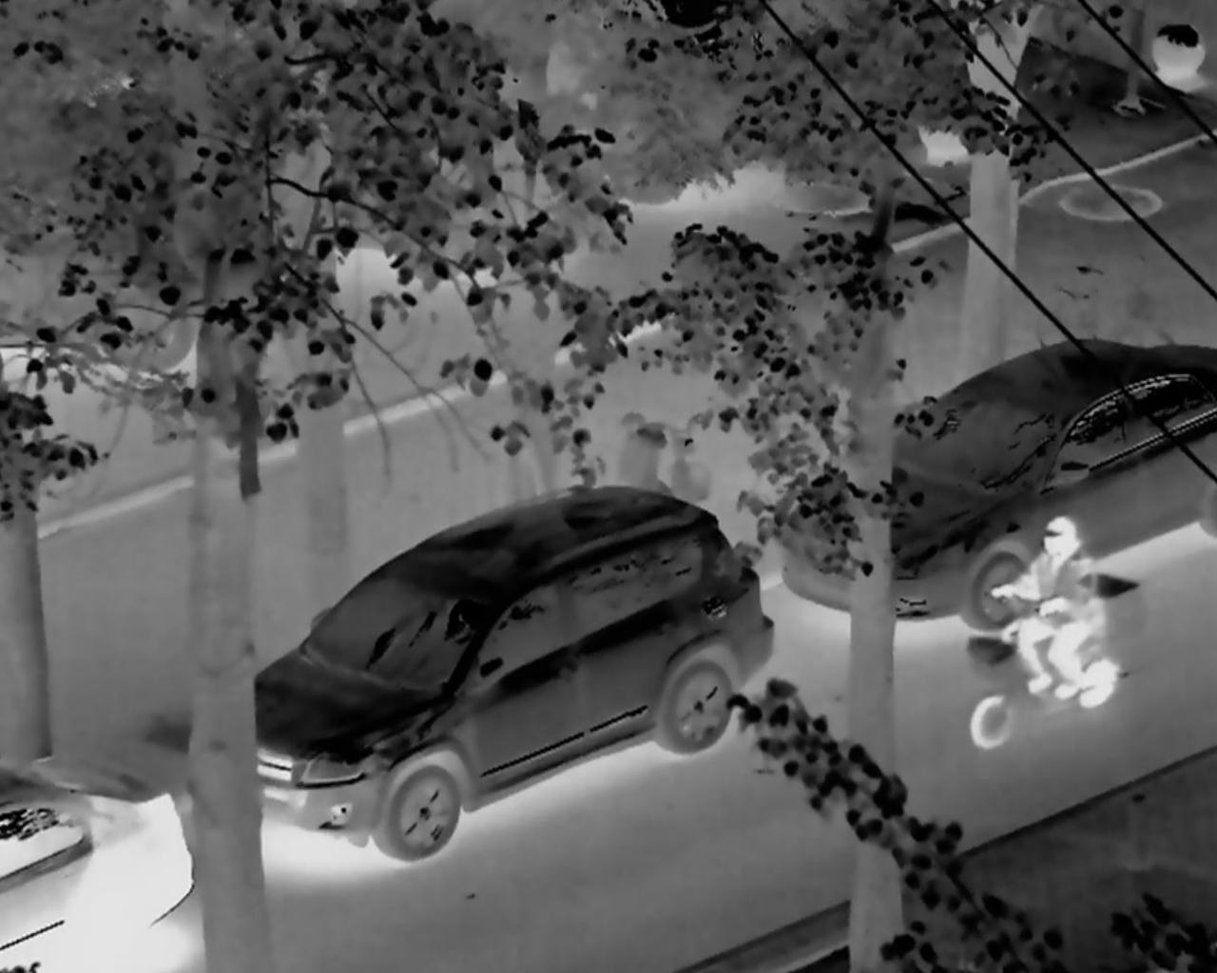person: (962, 506, 1123, 757)
